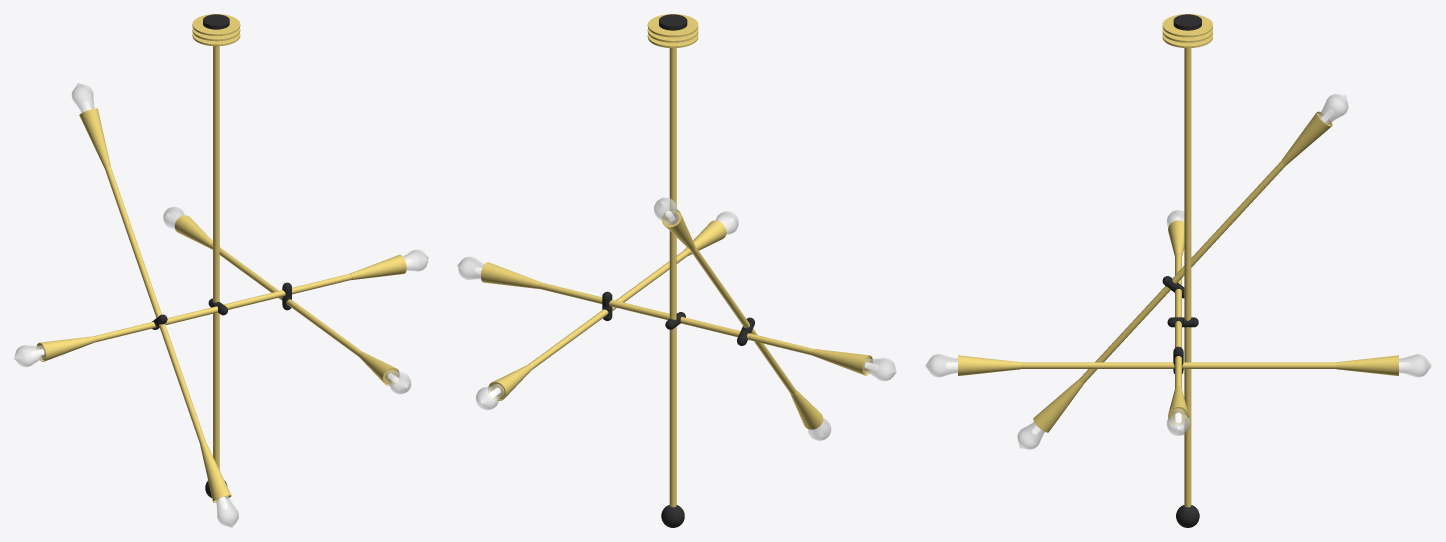
3 views of the same model, side by side, from view 1: azimuth 30°, elevation 25°; view 2: azimuth 150°, elevation 25°; view 3: azimuth 270°, elevation 25° (orthographic). The views are drawn at different scales.
Parts seen in each view (by area): view 1: autoban-nt1_Material #42_0, autoban-nt1_Material #43_0, autoban-nt1_Material #44_0; view 2: autoban-nt1_Material #42_0, autoban-nt1_Material #43_0, autoban-nt1_Material #44_0; view 3: autoban-nt1_Material #42_0, autoban-nt1_Material #43_0, autoban-nt1_Material #44_0.
Boxes of the visible parts, bbox=[...] form: autoban-nt1_Material #42_0: bbox=[36, 14, 406, 502]; autoban-nt1_Material #43_0: bbox=[14, 83, 428, 527]; autoban-nt1_Material #44_0: bbox=[152, 14, 291, 497]; autoban-nt1_Material #42_0: bbox=[481, 14, 872, 507]; autoban-nt1_Material #43_0: bbox=[457, 197, 896, 440]; autoban-nt1_Material #44_0: bbox=[602, 14, 754, 527]; autoban-nt1_Material #42_0: bbox=[958, 14, 1398, 507]; autoban-nt1_Material #43_0: bbox=[925, 94, 1431, 449]; autoban-nt1_Material #44_0: bbox=[1162, 14, 1201, 527].
Bounding box in the file's own units: 1.2 × 1.32 × 1.2.
